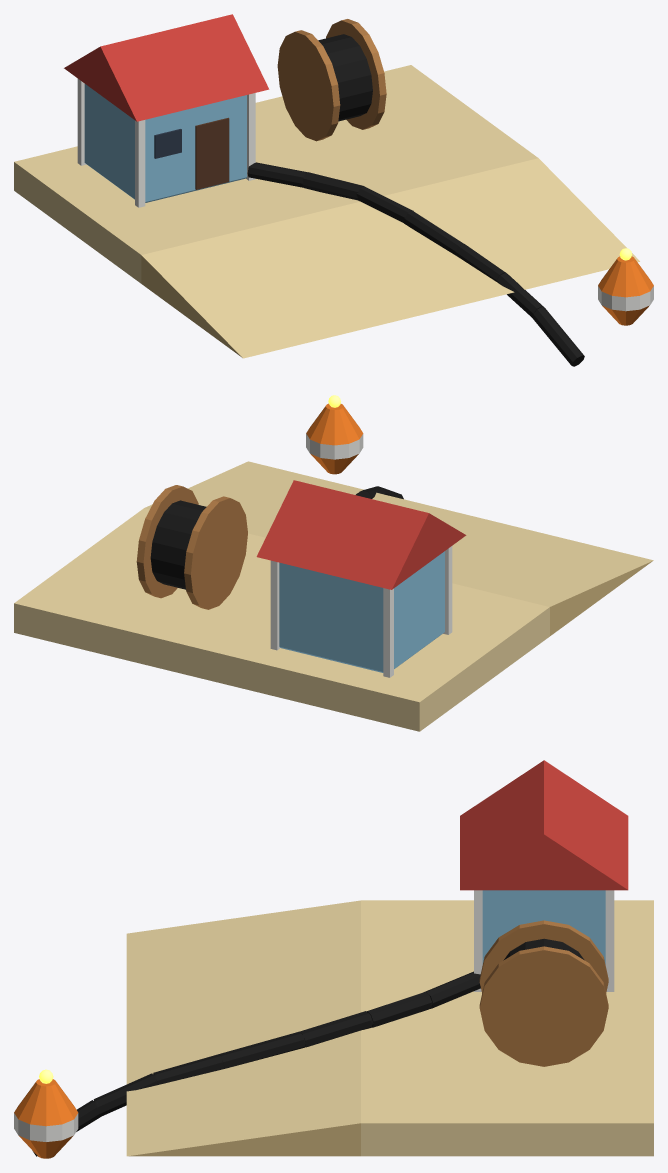
The model's file is cable_landing.glb.
3 renders of one model, top to bottom at view 1: azimuth 30°, elevation 25°; view 2: azimuth 150°, elevation 25°; view 3: azimuth 270°, elevation 25°, orthographic. The views are drawn at different scales.
Parts seen in each view (by area): view 1: beach, buoy; view 2: beach, buoy; view 3: beach, buoy.
Boxes of the visible parts, x1,y1,x2,y2 form: beach: (14, 14, 639, 366); buoy: (598, 248, 653, 325); beach: (14, 461, 653, 731); buoy: (306, 395, 363, 474); beach: (32, 760, 653, 1156); buoy: (14, 1069, 78, 1158).
Size of the model in its own units: 3.6 by 1.91 by 4.37.
